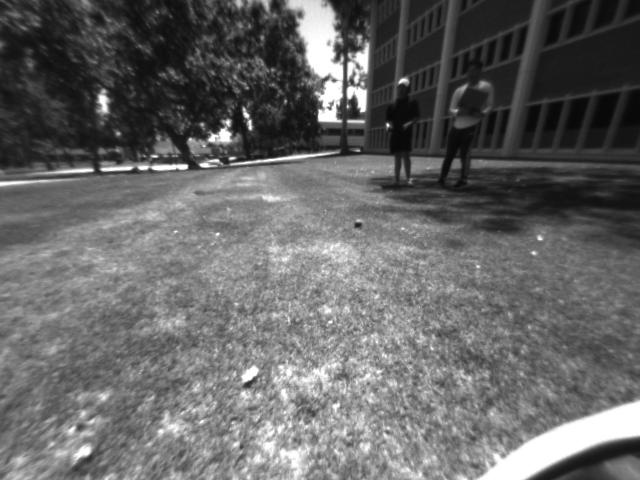dogtoy: (346, 210, 376, 235)
